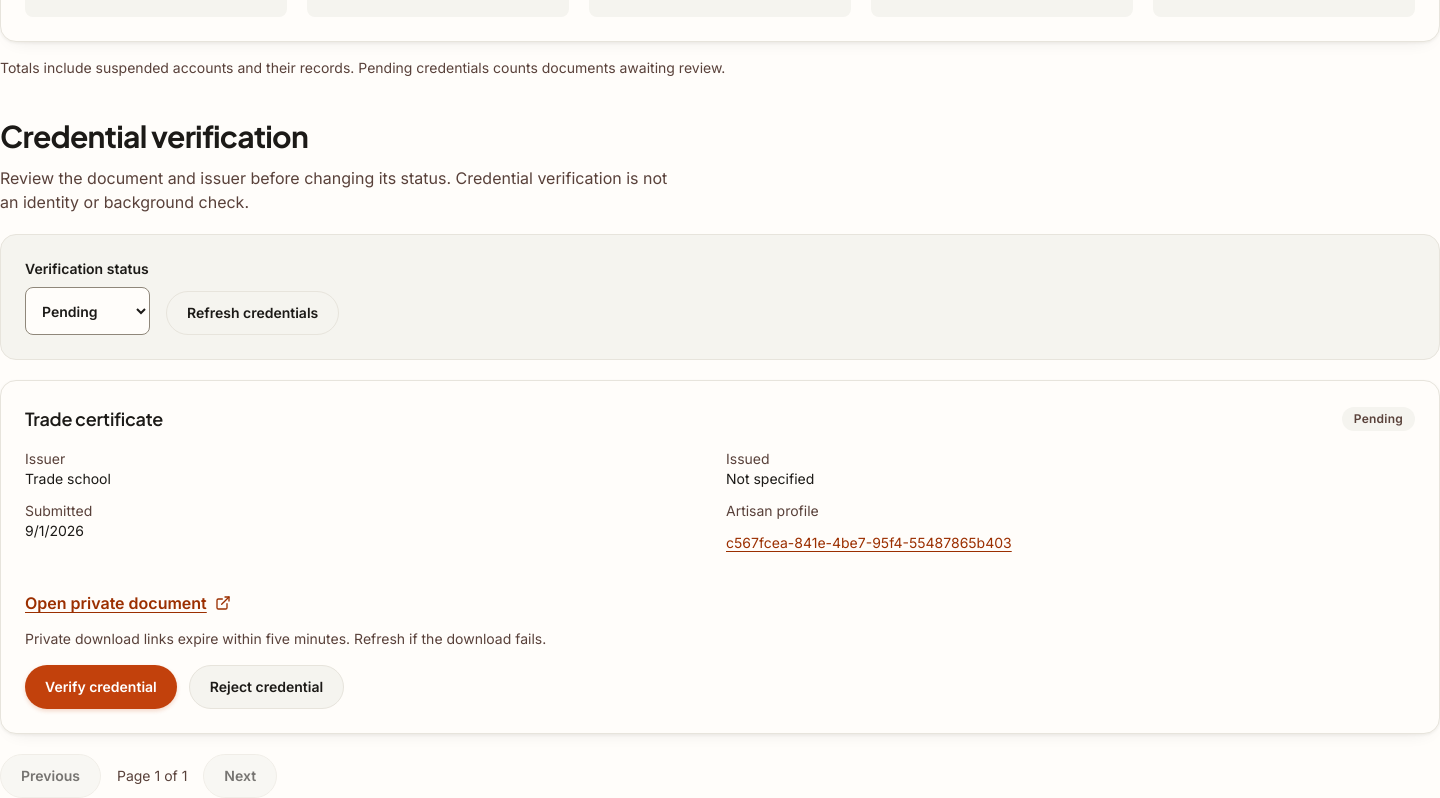
it: handles verification failure 401 without retrying the write
(page scrolled)
Expected: the heading "Trade certificate" is shown, [25,405,163,433]
Click the button "Reject credential" at (266, 687), box [189,665,344,709]
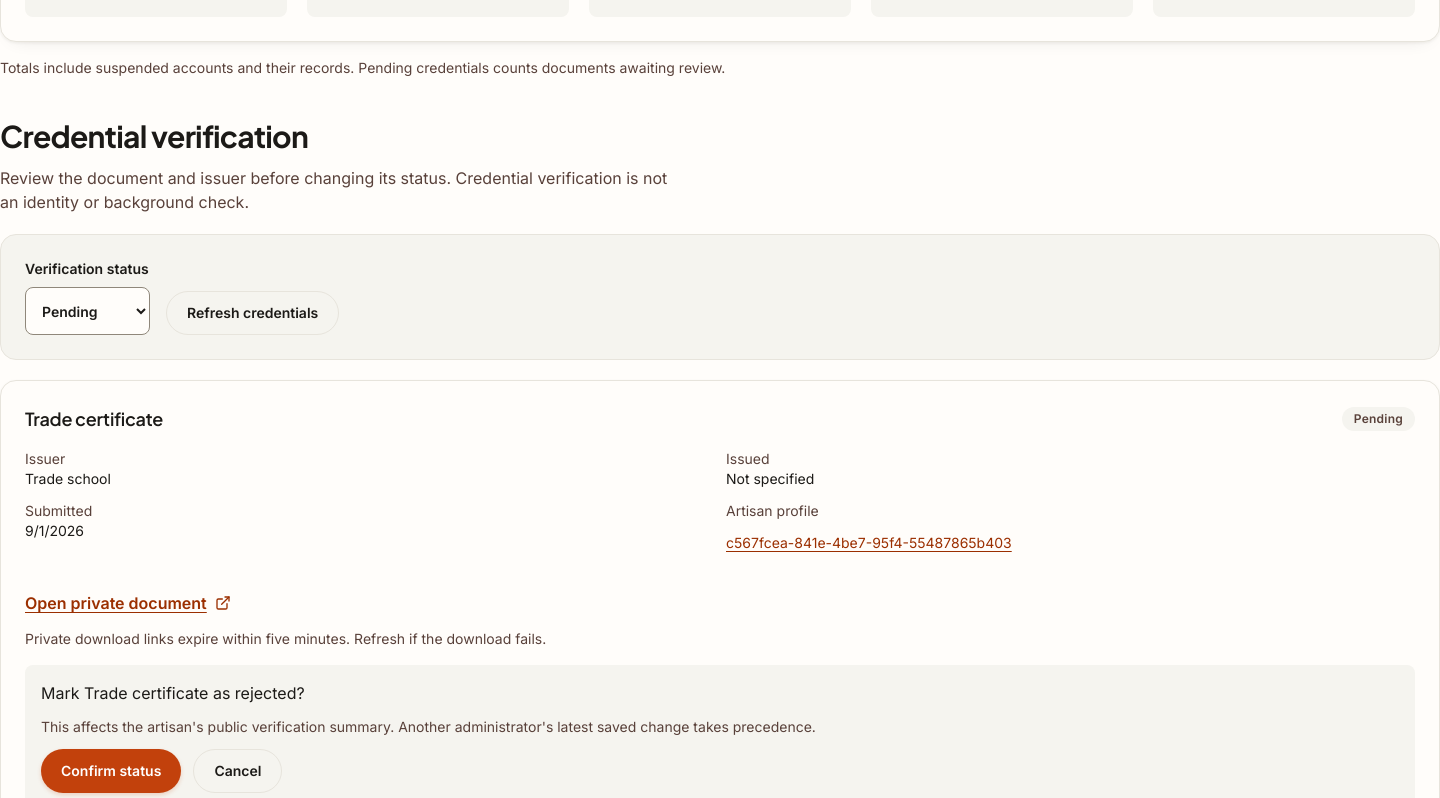
Click the button "Confirm status" at (111, 771), box [41,749,181,793]
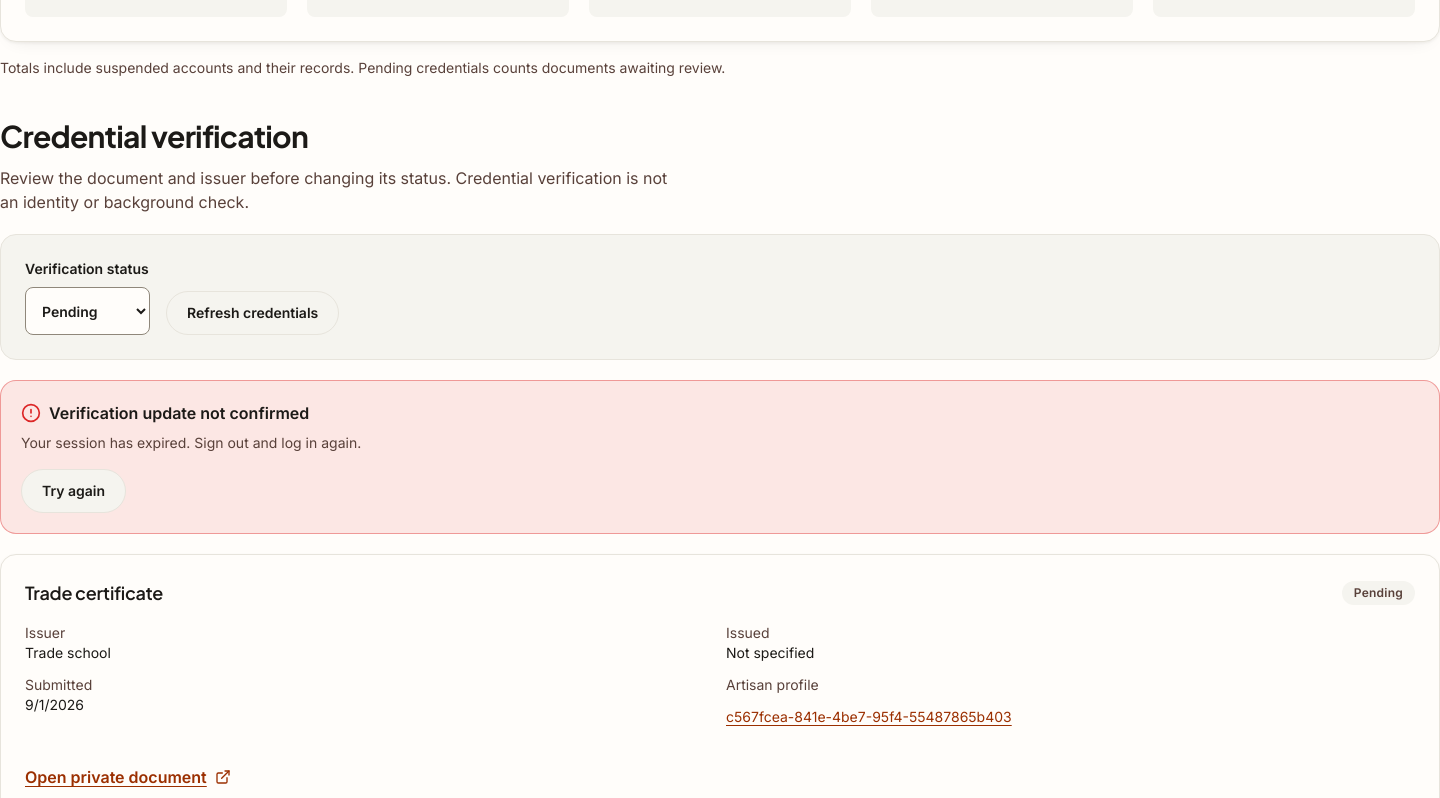
Now the text "Verification update not confirmed" is shown, box [21,403,309,423]
Click the button "Try again" at (74, 491), box [21,469,126,513]
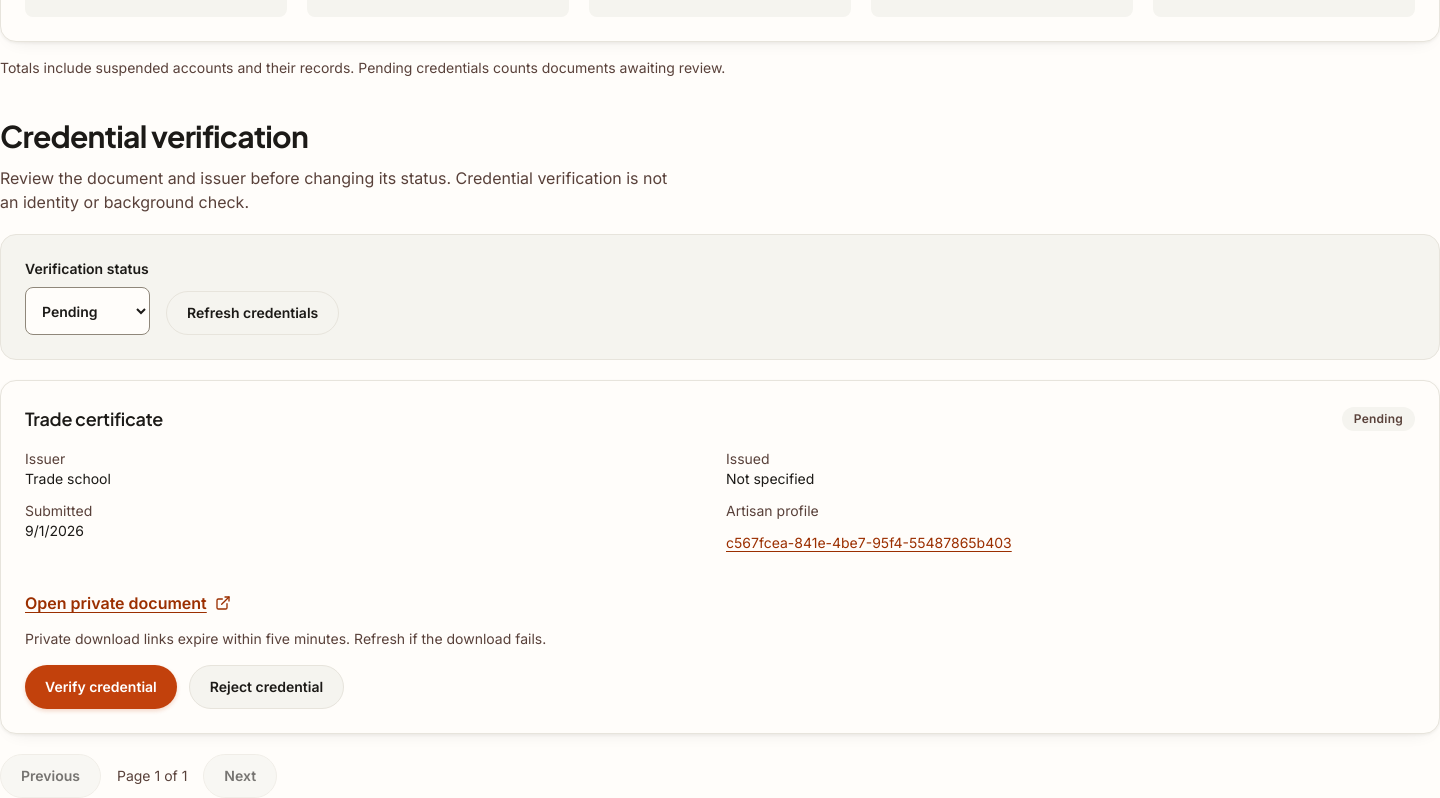
Now the button "Reject credential" is enabled, box [189,665,344,709]
